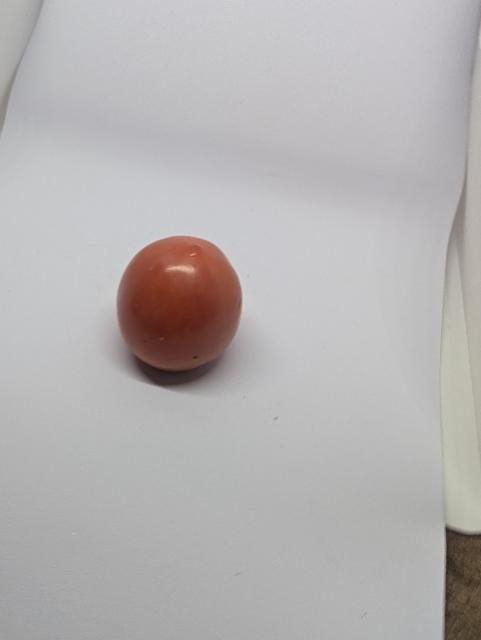red: (102, 224, 261, 390)
